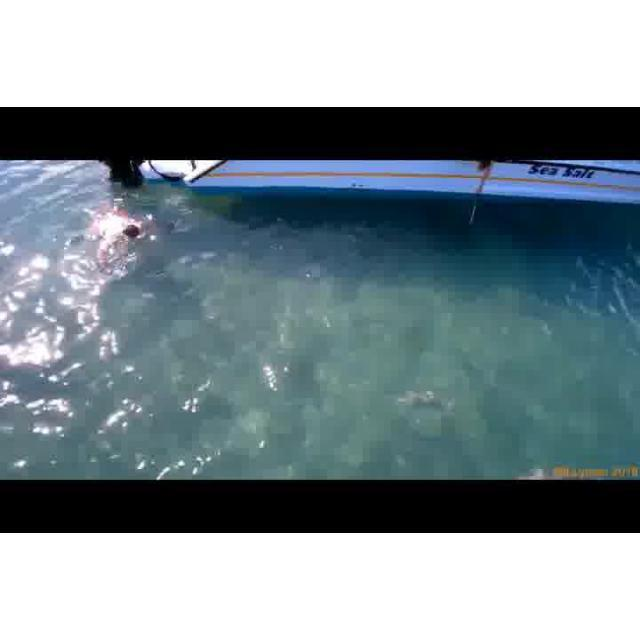human: (95, 214, 150, 246)
